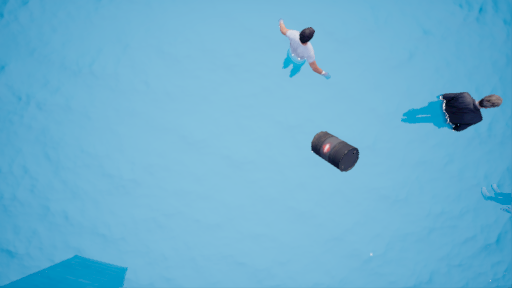person: (404, 89, 503, 139), (276, 19, 330, 83)
